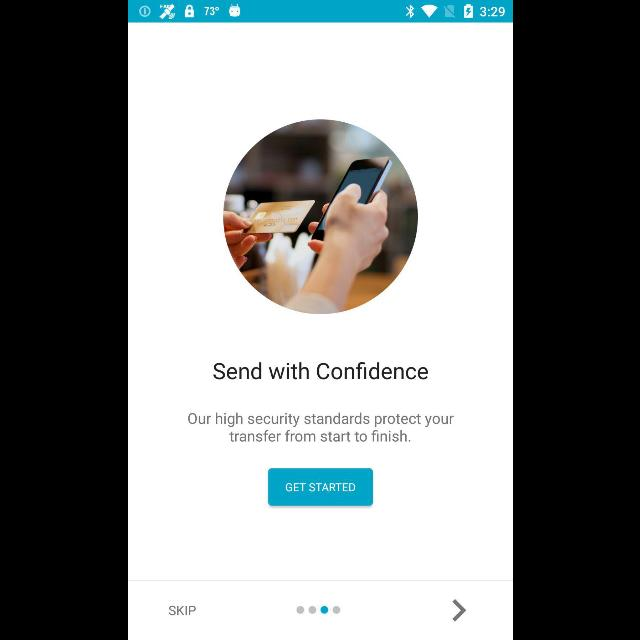icon: (452, 598, 466, 622)
image: (222, 119, 418, 315)
pageindicator: (296, 606, 340, 614)
text: (187, 412, 453, 442), (212, 362, 428, 381), (168, 605, 196, 615)
textbutton: (268, 468, 372, 506)
uppertaskbar: (128, 1, 512, 23)
